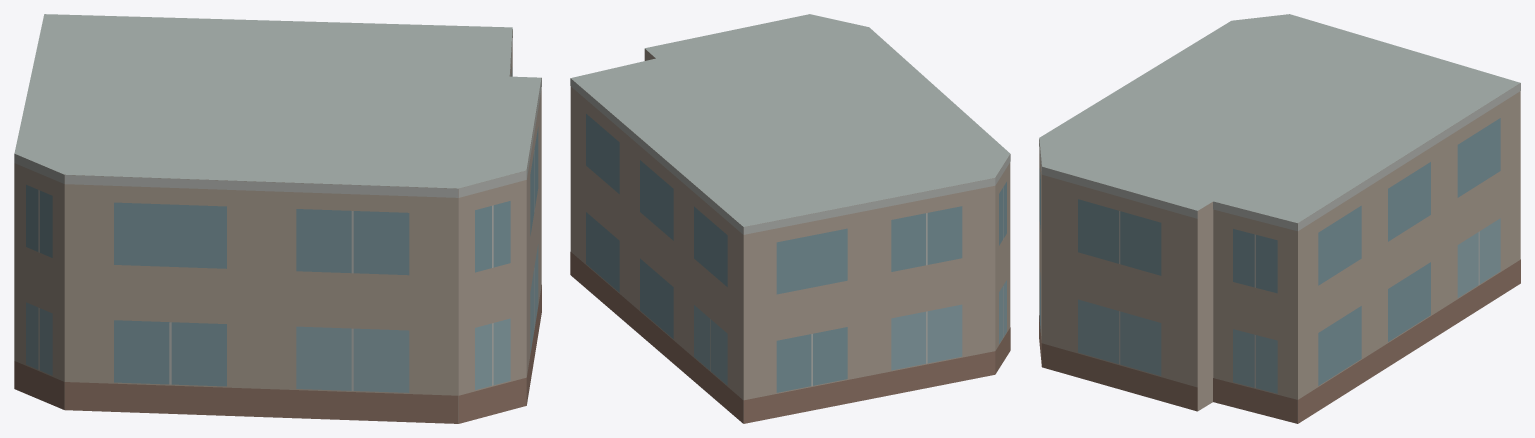
File: survey-upis-32718722.glb
3 renders of one model, left to right at view 1: azimuth 30°, elevation 25°; view 2: azimuth 150°, elevation 25°; view 3: azimuth 270°, elevation 25°, orthographic. The views are drawn at different scales.
Visible parts, largest first — view 1: survey-upis-32718722.tmp; view 2: survey-upis-32718722.tmp; view 3: survey-upis-32718722.tmp.
Boxes of the visible parts, bbox=[...] form: survey-upis-32718722.tmp: bbox=[14, 14, 541, 423]; survey-upis-32718722.tmp: bbox=[570, 14, 1010, 423]; survey-upis-32718722.tmp: bbox=[1039, 14, 1520, 423].
Bounding box in the file's own units: 13.66 × 6.1 × 13.28.
